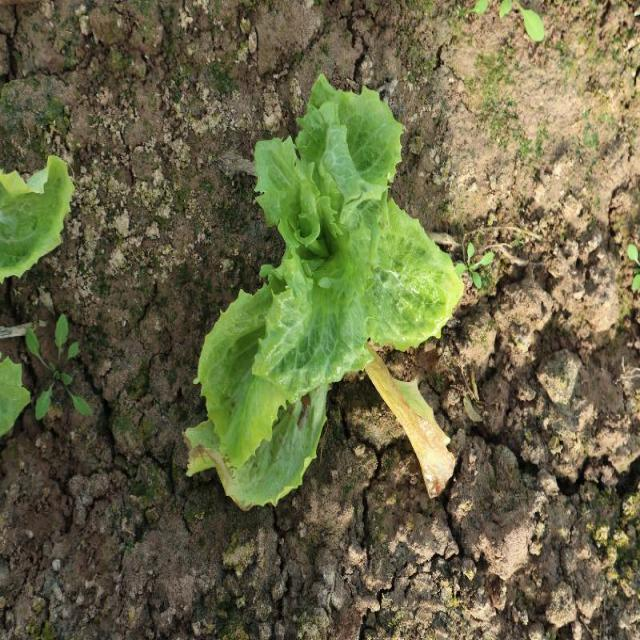crop: (199, 80, 465, 507)
